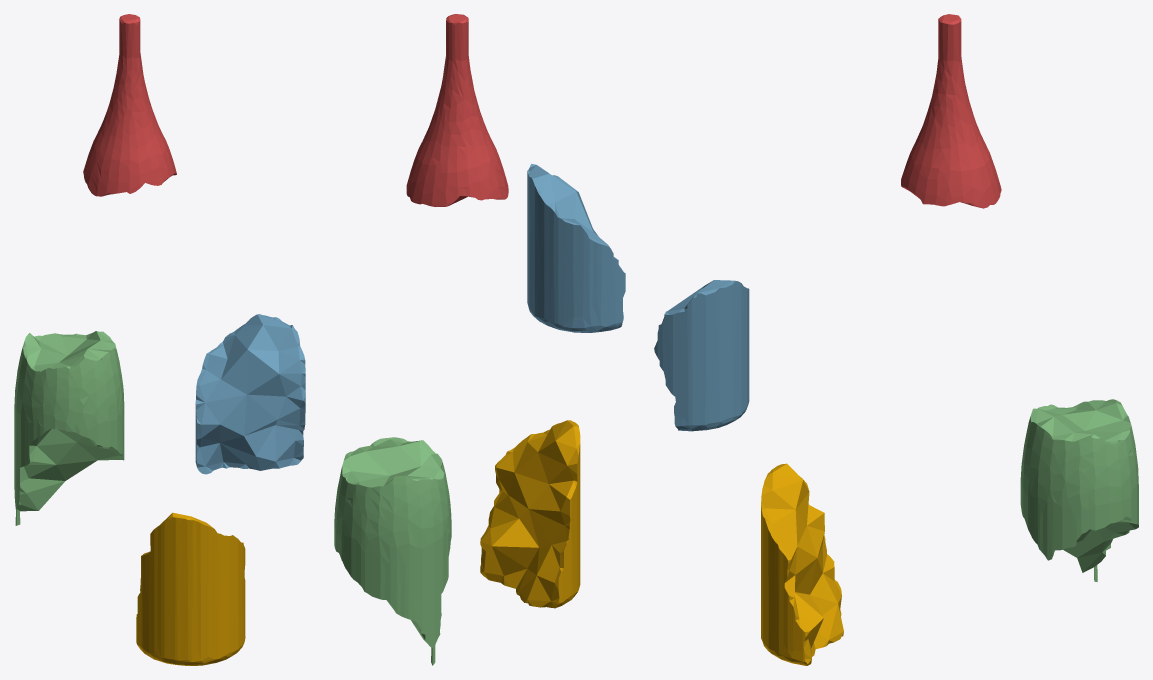
File: mode_5_4pcs_transformed.glb
3 renders of one model, left to right at view 1: azimuth 30°, elevation 25°; view 2: azimuth 150°, elevation 25°; view 3: azimuth 270°, elevation 25°, orthographic. The views are drawn at different scales.
Visible parts, largest first — view 1: piece_3.obj, piece_2.obj, piece_0.obj, piece_1.obj; view 2: piece_3.obj, piece_0.obj, piece_2.obj, piece_1.obj; view 3: piece_3.obj, piece_0.obj, piece_2.obj, piece_1.obj.
Part boxes in pixels (x1,y1,x2,y2): piece_3.obj: [14, 331, 124, 525]; piece_2.obj: [195, 314, 305, 474]; piece_0.obj: [136, 512, 245, 665]; piece_1.obj: [83, 14, 176, 196]; piece_3.obj: [334, 437, 451, 665]; piece_0.obj: [480, 420, 580, 608]; piece_2.obj: [527, 163, 625, 332]; piece_1.obj: [406, 14, 508, 206]; piece_3.obj: [1020, 399, 1138, 581]; piece_0.obj: [761, 463, 843, 665]; piece_2.obj: [654, 280, 749, 431]; piece_1.obj: [901, 14, 1001, 208].
Bounding box in the file's own units: 0.2734 × 1.6 × 1.12.
